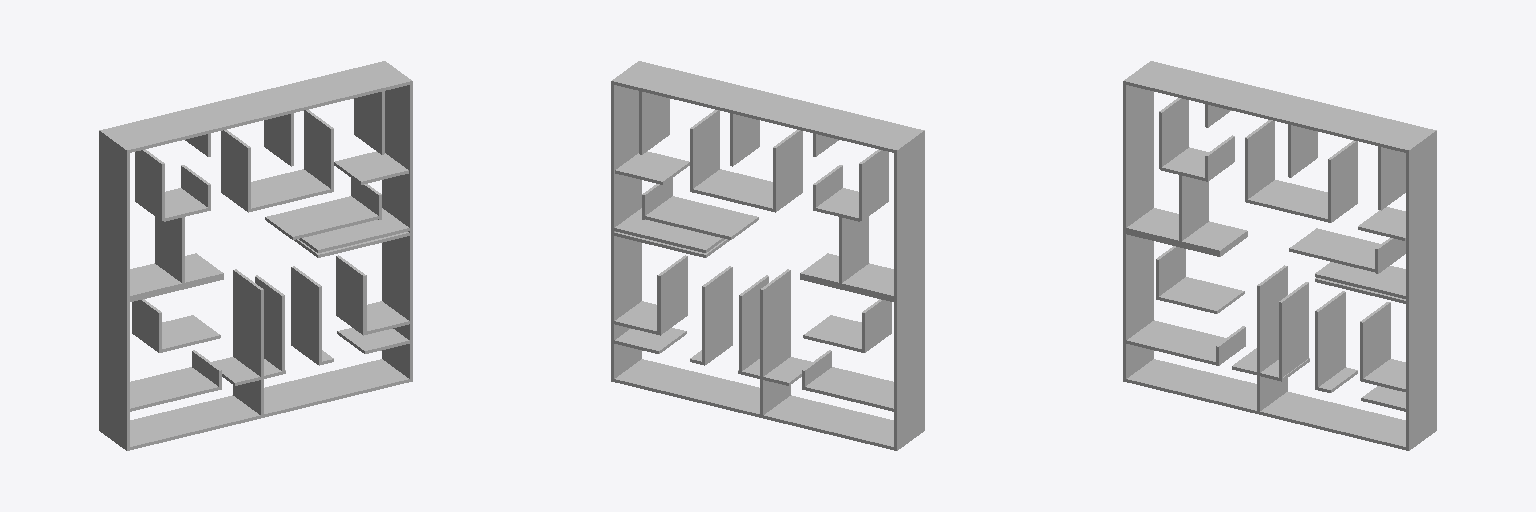
Rendered from tinker.obj.
The picture shows the model from 3 angles: view 1: azimuth 30°, elevation 25°; view 2: azimuth 150°, elevation 25°; view 3: azimuth 330°, elevation 25°; orthographic projection.
Parts seen in each view (by area): view 1: obj_0; view 2: obj_0; view 3: obj_0.
Boxes of the visible parts, x1,y1,x2,y2 form: obj_0: [99, 61, 412, 450]; obj_0: [611, 61, 924, 450]; obj_0: [1123, 61, 1436, 450].
Size of the model in its own units: 186 by 187 by 31.